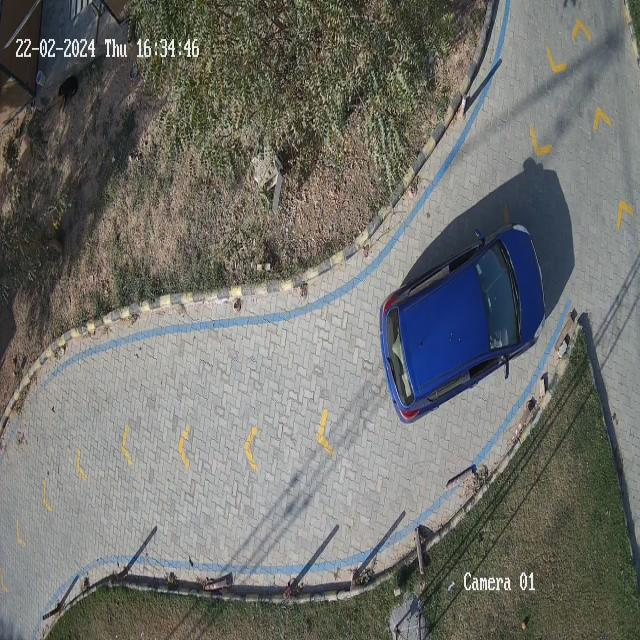car: (380, 224, 545, 422)
